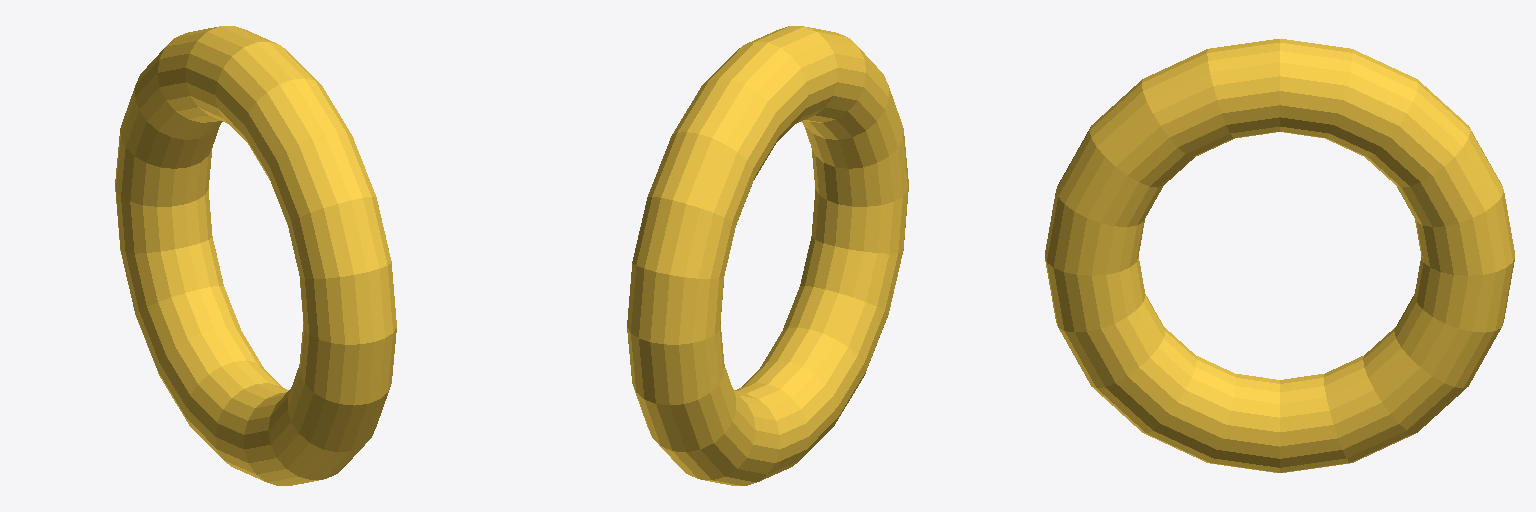
3 views of the same model, side by side, from view 1: azimuth 30°, elevation 25°; view 2: azimuth 150°, elevation 25°; view 3: azimuth 270°, elevation 25° (orthographic).
Visible parts, largest first — view 1: 金幣; view 2: 金幣; view 3: 金幣.
Boxes of the visible parts, box(x1,y1,x2,y2) form: 金幣: box(115, 26, 396, 485); 金幣: box(627, 26, 908, 485); 金幣: box(1045, 39, 1514, 472).
Bounding box in the file's own units: 0.2 × 1 × 1.